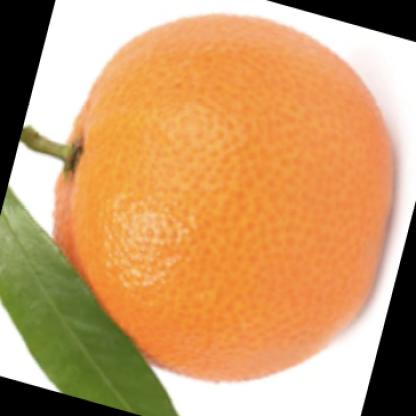fresh: (51, 16, 397, 385)
